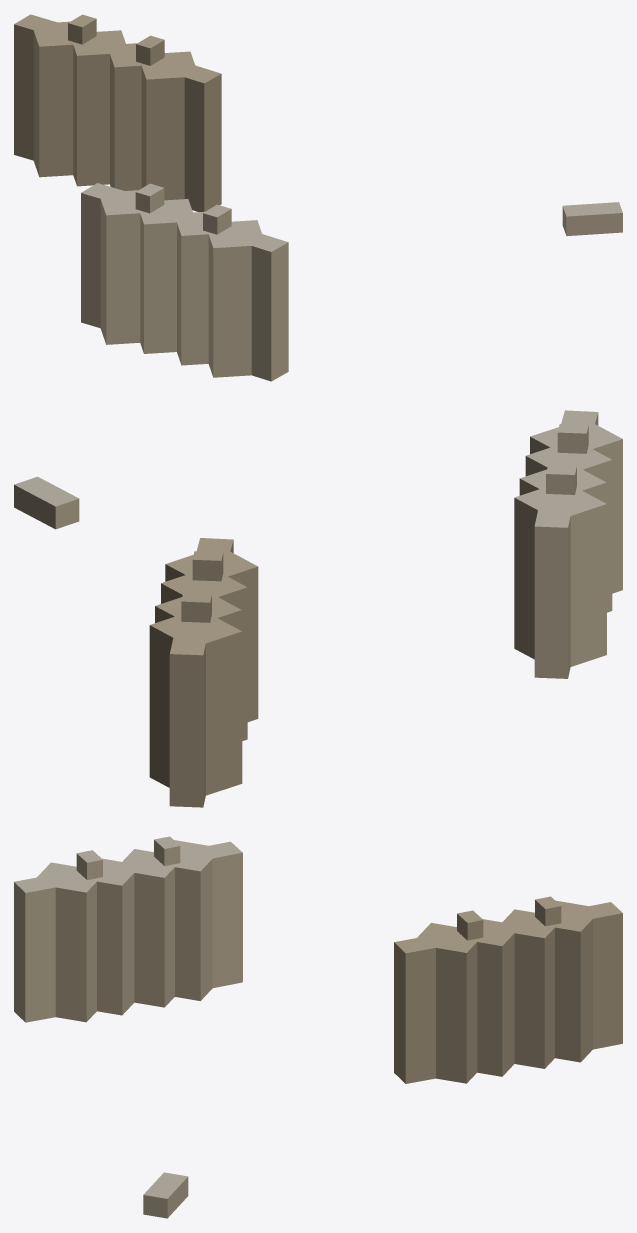
The model's file is tile-9_8.glb.
3 views of the same model, one above another, from view 1: azimuth 30°, elevation 25°; view 2: azimuth 150°, elevation 25°; view 3: azimuth 270°, elevation 25° (orthographic). The views are drawn at different scales.
Visible parts, largest first — view 1: wall, roof; view 2: wall, roof; view 3: wall, roof.
Part boxes in pixels (x1,y1,x2,y2): wall: [14, 19, 622, 381]; roof: [14, 14, 622, 251]; wall: [14, 413, 622, 807]; roof: [14, 410, 622, 655]; wall: [14, 840, 622, 1218]; roof: [14, 836, 622, 1198].
Bounding box in the file's own units: 154 × 42.63 × 159.
